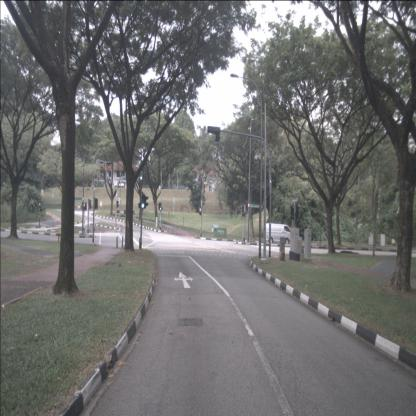vehicle-car: (264, 223, 292, 245)
vehicle-truck: (114, 180, 125, 189)
